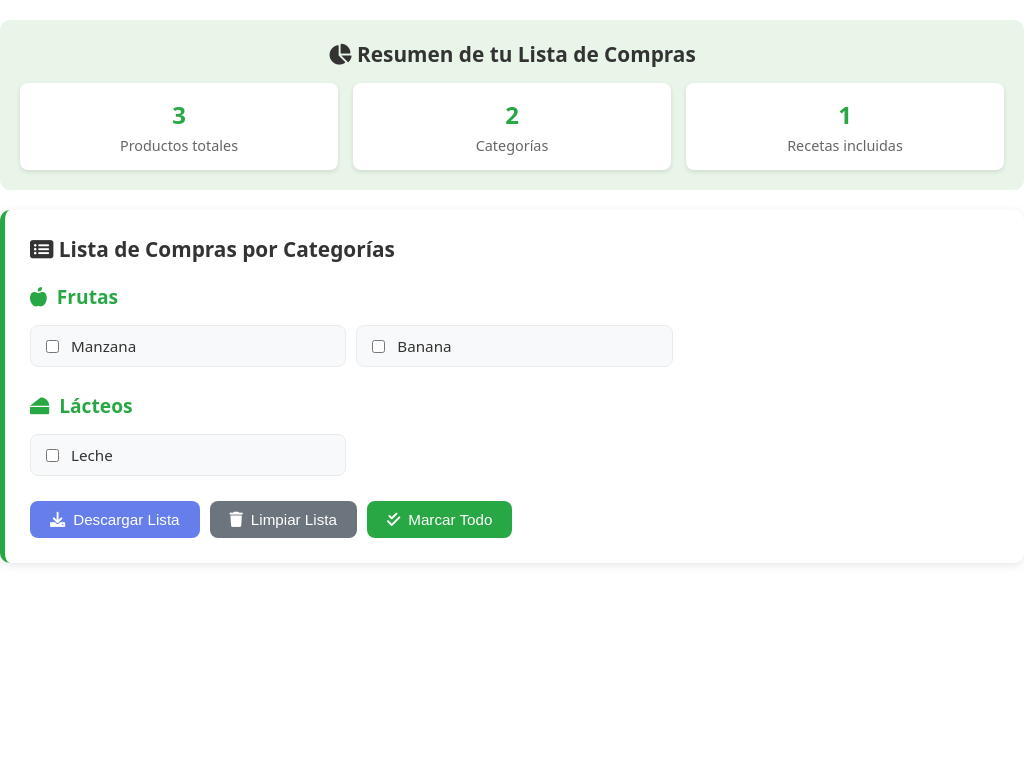
it: ShoppingListResult.vue › marca un ítem al hacer clic en el checkbox
The image size is (1024, 768).
Click the checkbox next to "Manzana" at (52, 346), box [46,340,59,352]
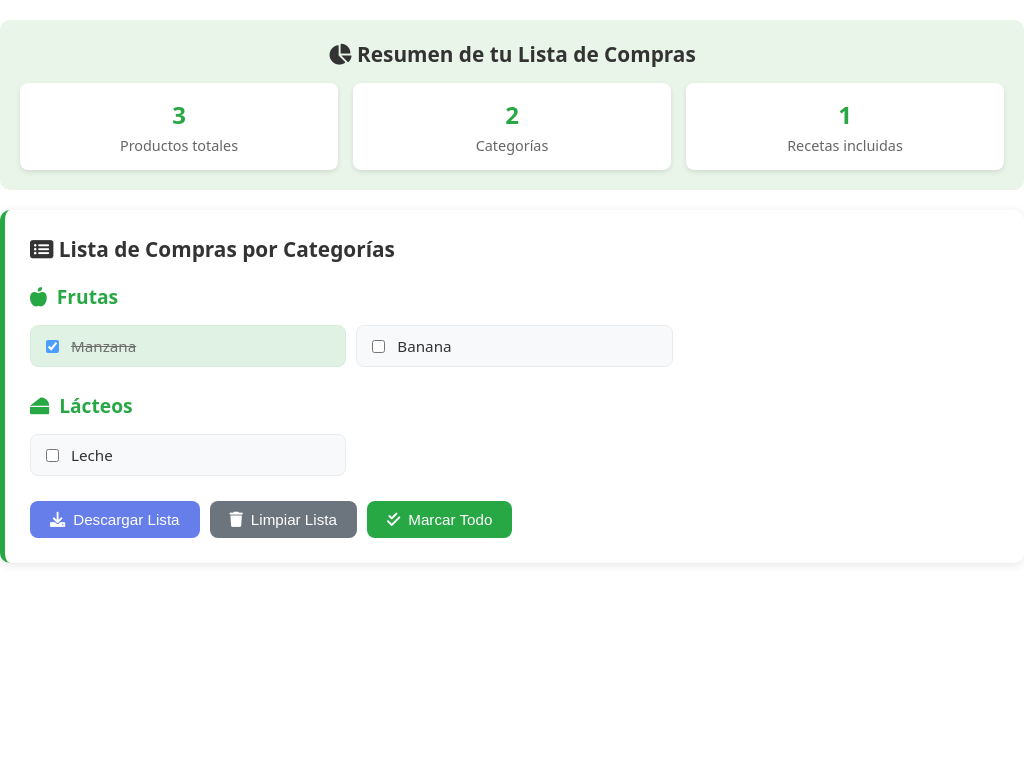
Check: the element with class "checked" is shown, box [30,325,346,367]
